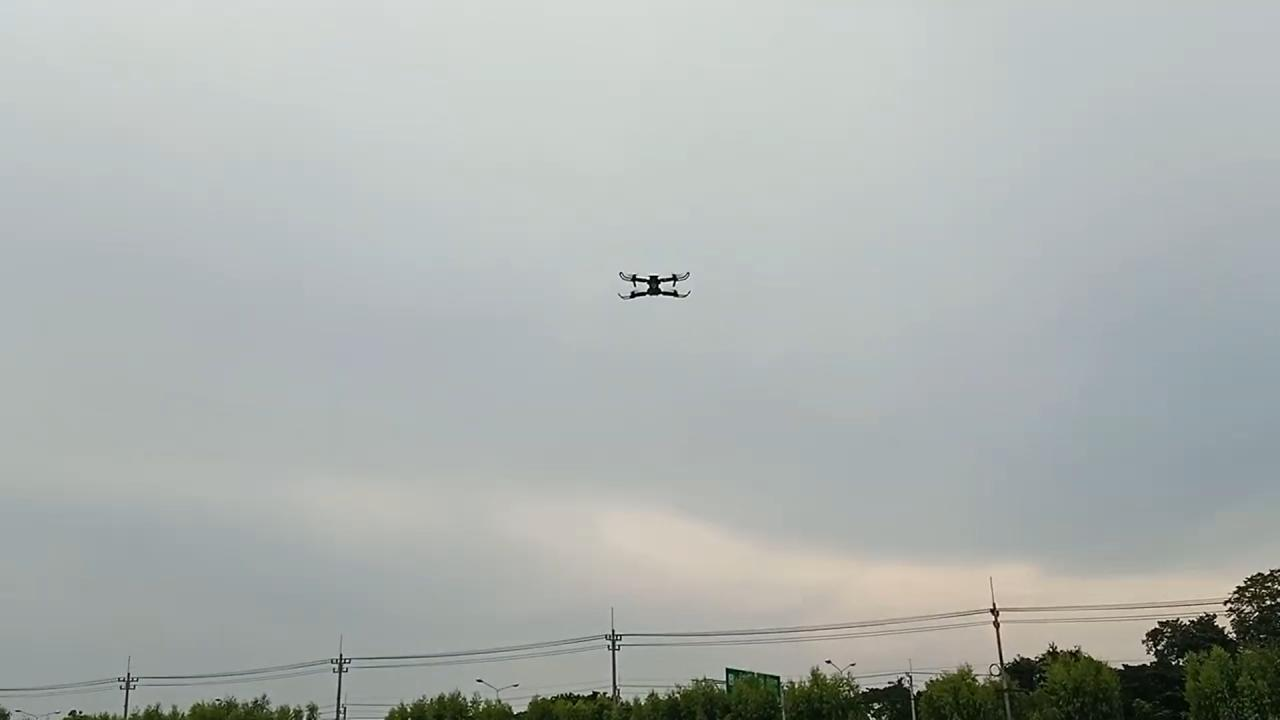Drone: (610, 262, 701, 309)
